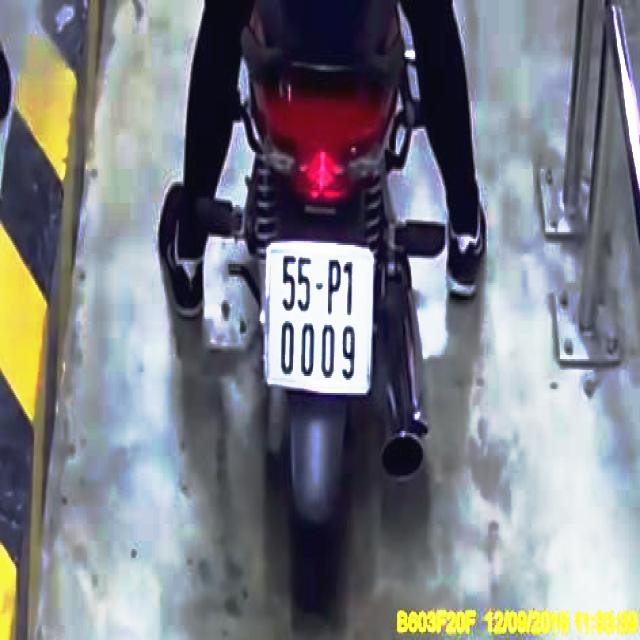license_plate: (266, 250, 373, 392)
